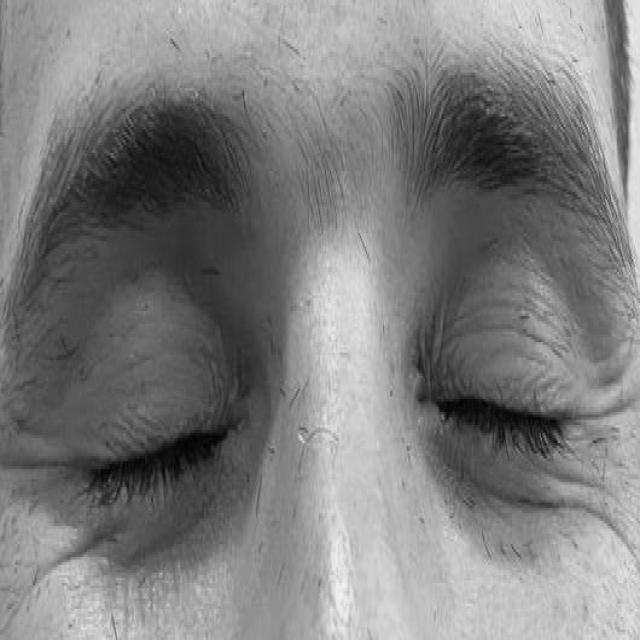real: (30, 75, 620, 588)
